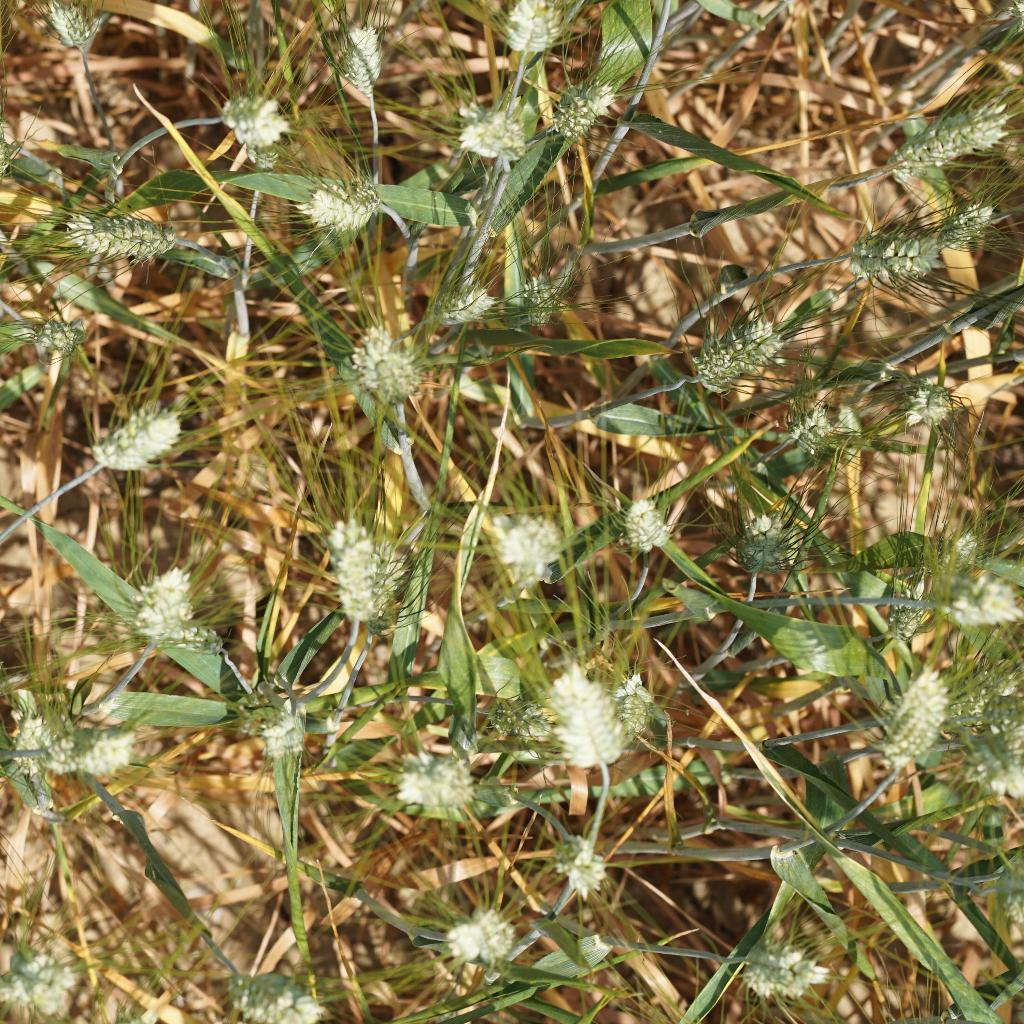0-0: (548, 657, 635, 778), (867, 105, 1009, 179), (43, 198, 185, 271), (131, 557, 215, 668), (716, 927, 832, 1006), (863, 664, 944, 773), (88, 397, 186, 485), (688, 310, 788, 396), (912, 556, 1015, 634), (314, 509, 378, 627), (227, 950, 328, 1024), (545, 59, 627, 149), (354, 314, 429, 410), (908, 178, 1002, 254), (8, 0, 96, 81), (436, 900, 530, 970), (0, 934, 73, 1021), (287, 169, 384, 234), (474, 493, 546, 578), (326, 11, 387, 109), (210, 73, 294, 144), (833, 217, 927, 280), (545, 821, 619, 899), (165, 602, 247, 672), (727, 514, 810, 583), (444, 97, 524, 168), (378, 526, 423, 650), (957, 716, 1024, 798), (949, 649, 1020, 725), (391, 739, 471, 806), (886, 369, 972, 430), (48, 724, 148, 776), (478, 0, 557, 63), (6, 671, 49, 781), (924, 521, 1003, 580), (477, 692, 558, 748), (869, 576, 927, 651), (603, 672, 663, 743), (778, 391, 847, 451), (617, 486, 673, 557), (26, 305, 89, 365), (245, 711, 312, 762), (441, 277, 492, 339), (519, 265, 565, 326)
